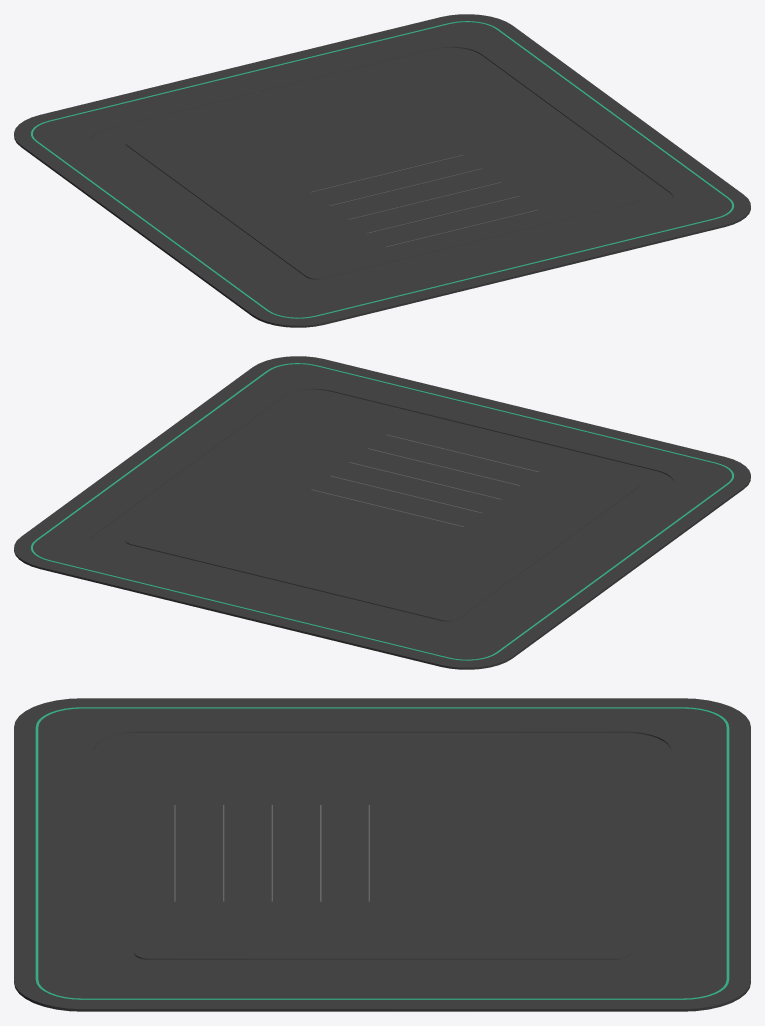
Rendered from W_O_Forum_Quadrangle_Bottom_001_L0.fbx.
The picture shows the model from 3 angles, top to bottom: view 1: azimuth 30°, elevation 25°; view 2: azimuth 150°, elevation 25°; view 3: azimuth 270°, elevation 25°; orthographic projection. The views are drawn at different scales.
Visible parts, largest first — view 1: W_O_Forum_Quadrangle_Bottom_001_L0; view 2: W_O_Forum_Quadrangle_Bottom_001_L0; view 3: W_O_Forum_Quadrangle_Bottom_001_L0.
Boxes of the visible parts, <box> form: W_O_Forum_Quadrangle_Bottom_001_L0: <box>14,14,750,327</box>; W_O_Forum_Quadrangle_Bottom_001_L0: <box>14,356,750,669</box>; W_O_Forum_Quadrangle_Bottom_001_L0: <box>14,698,750,1011</box>.
Size of the model in its own units: 12.48 by 0.0525 by 12.5.
